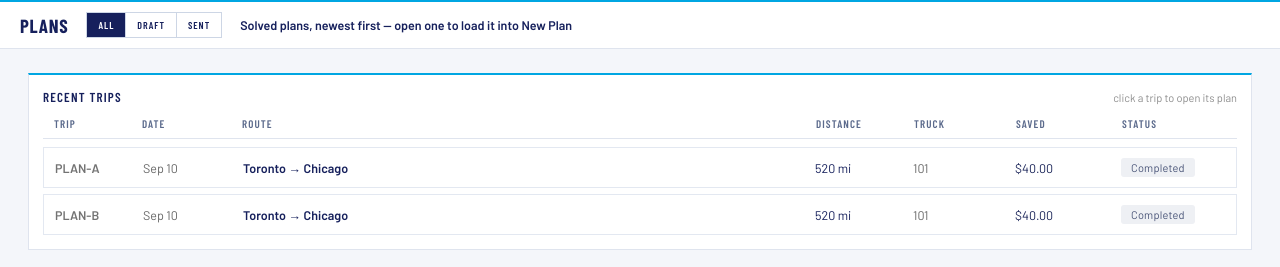
Test: PlansPage — the page banner (T-75) › filters the list by whether the plan has gone to the driver
The width and height of the screenshot is (1280, 267).
Expected: the text "PLAN-A" is shown, [55,160,100,176]
Expected: the heading "Plans" is shown, [20,16,68,34]
Click the button "Draft" at (152,25), box [126,13,177,37]
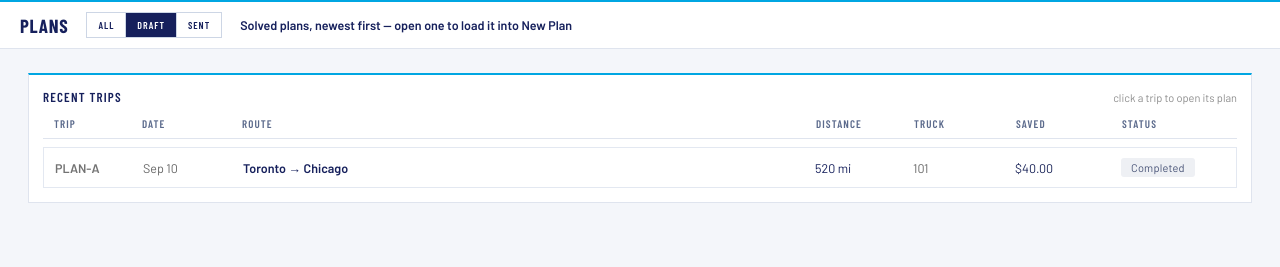
Expected: the text "PLAN-A" is shown, [55,160,100,176]
Expected: the text "PLAN-B" is gone
Click the button "Sent" at (199,25), box [177,13,221,37]
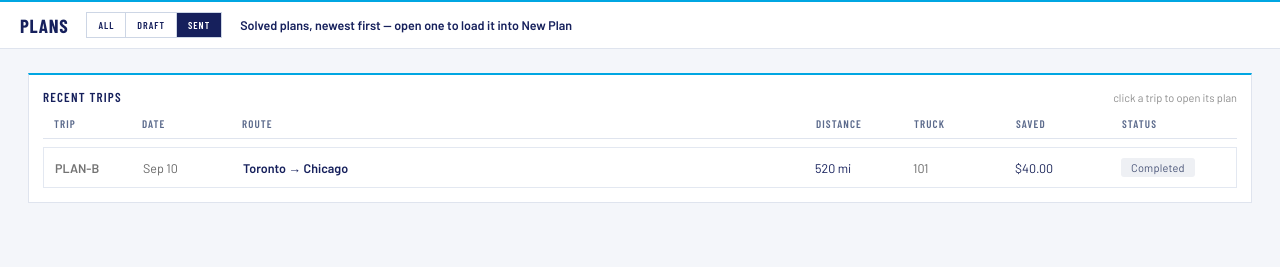
Expected: the text "PLAN-A" is gone
Expected: the text "PLAN-B" is shown, [55,160,99,176]
Click the button "All" at (107,25), box [87,13,126,37]
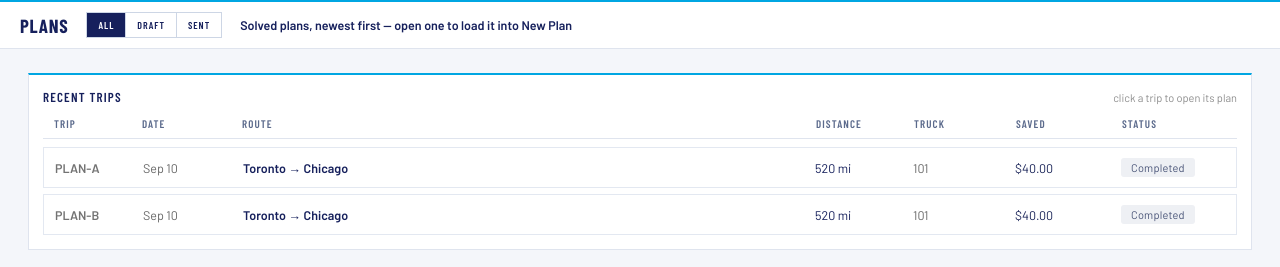
Expected: the text "PLAN-A" is shown, [55,160,100,176]
